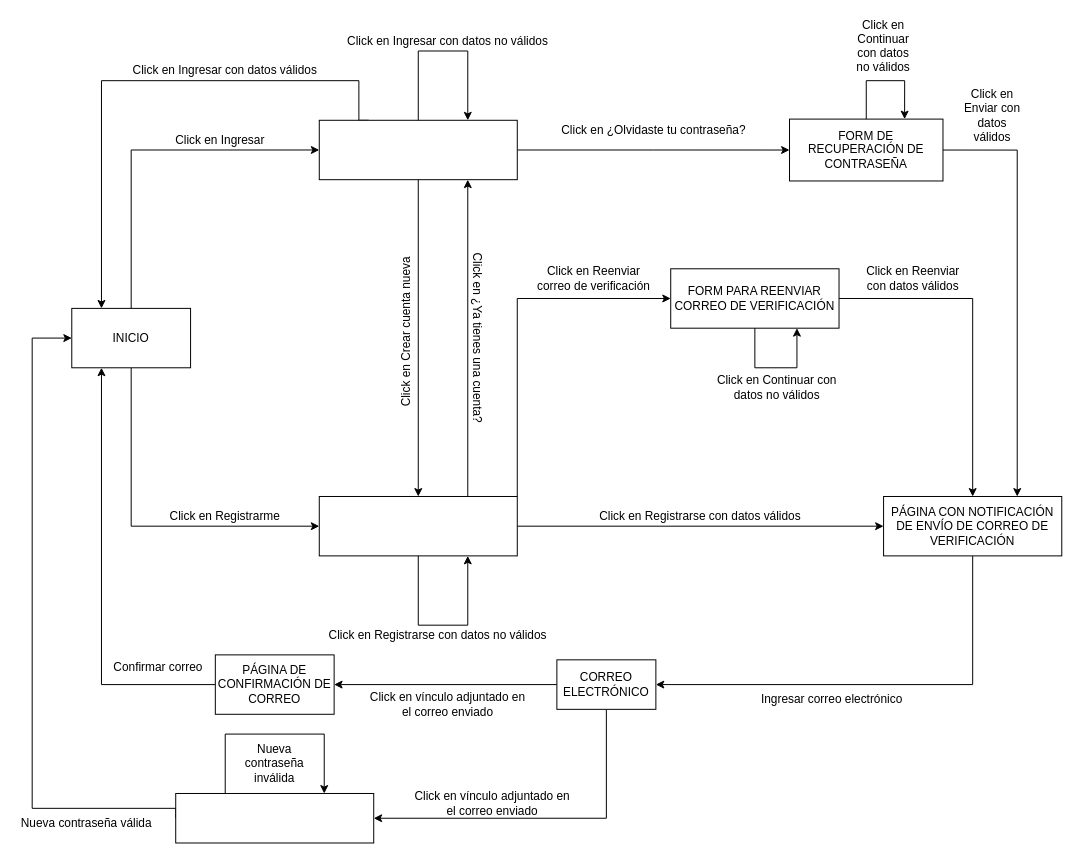
Some shapes in this 1079 by 860 pixel diagram are drawn without their labels. Each missing label, with the centre of its shape:
FORM DE INICIO DE SESIÓN: point (417, 149)
FORM DE REESTABLECIMIENTO DE CONTRASEÑA: point (274, 817)
FORM DE REGISTRO: point (417, 525)
